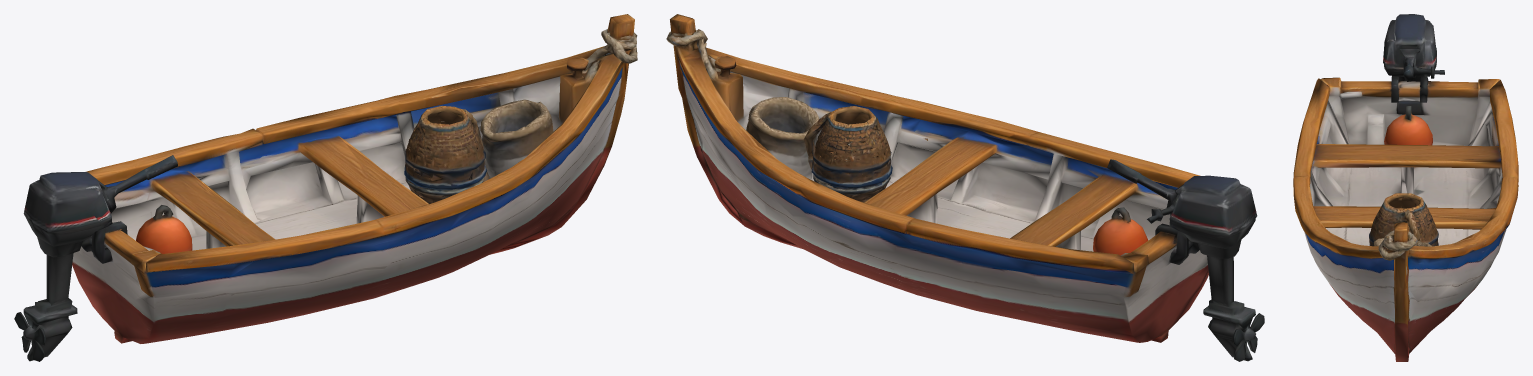
File: boat-skiff.glb
The picture shows the model from 3 angles, left to right: view 1: azimuth 30°, elevation 25°; view 2: azimuth 150°, elevation 25°; view 3: azimuth 270°, elevation 25°; orthographic projection. The views are drawn at different scales.
Visible parts, largest first — view 1: tripo_node_7a69ffc7-77b6-44f2-aa5b-79b112a70346; view 2: tripo_node_7a69ffc7-77b6-44f2-aa5b-79b112a70346; view 3: tripo_node_7a69ffc7-77b6-44f2-aa5b-79b112a70346.
Boxes of the visible parts, x1,y1,x2,y2 form: tripo_node_7a69ffc7-77b6-44f2-aa5b-79b112a70346: (14, 14, 637, 361); tripo_node_7a69ffc7-77b6-44f2-aa5b-79b112a70346: (666, 14, 1264, 361); tripo_node_7a69ffc7-77b6-44f2-aa5b-79b112a70346: (1293, 14, 1518, 361).
Bounding box in the file's own units: 1 × 0.325 × 0.3803.
Materials: 1 (1 with a texture image).
